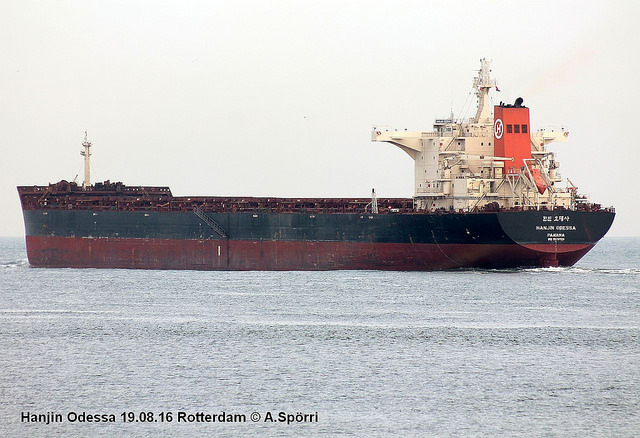bulk carrier: (17, 59, 617, 272)
